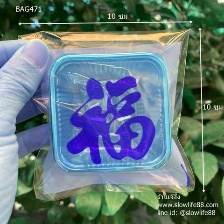snack: (11, 22, 199, 208)
